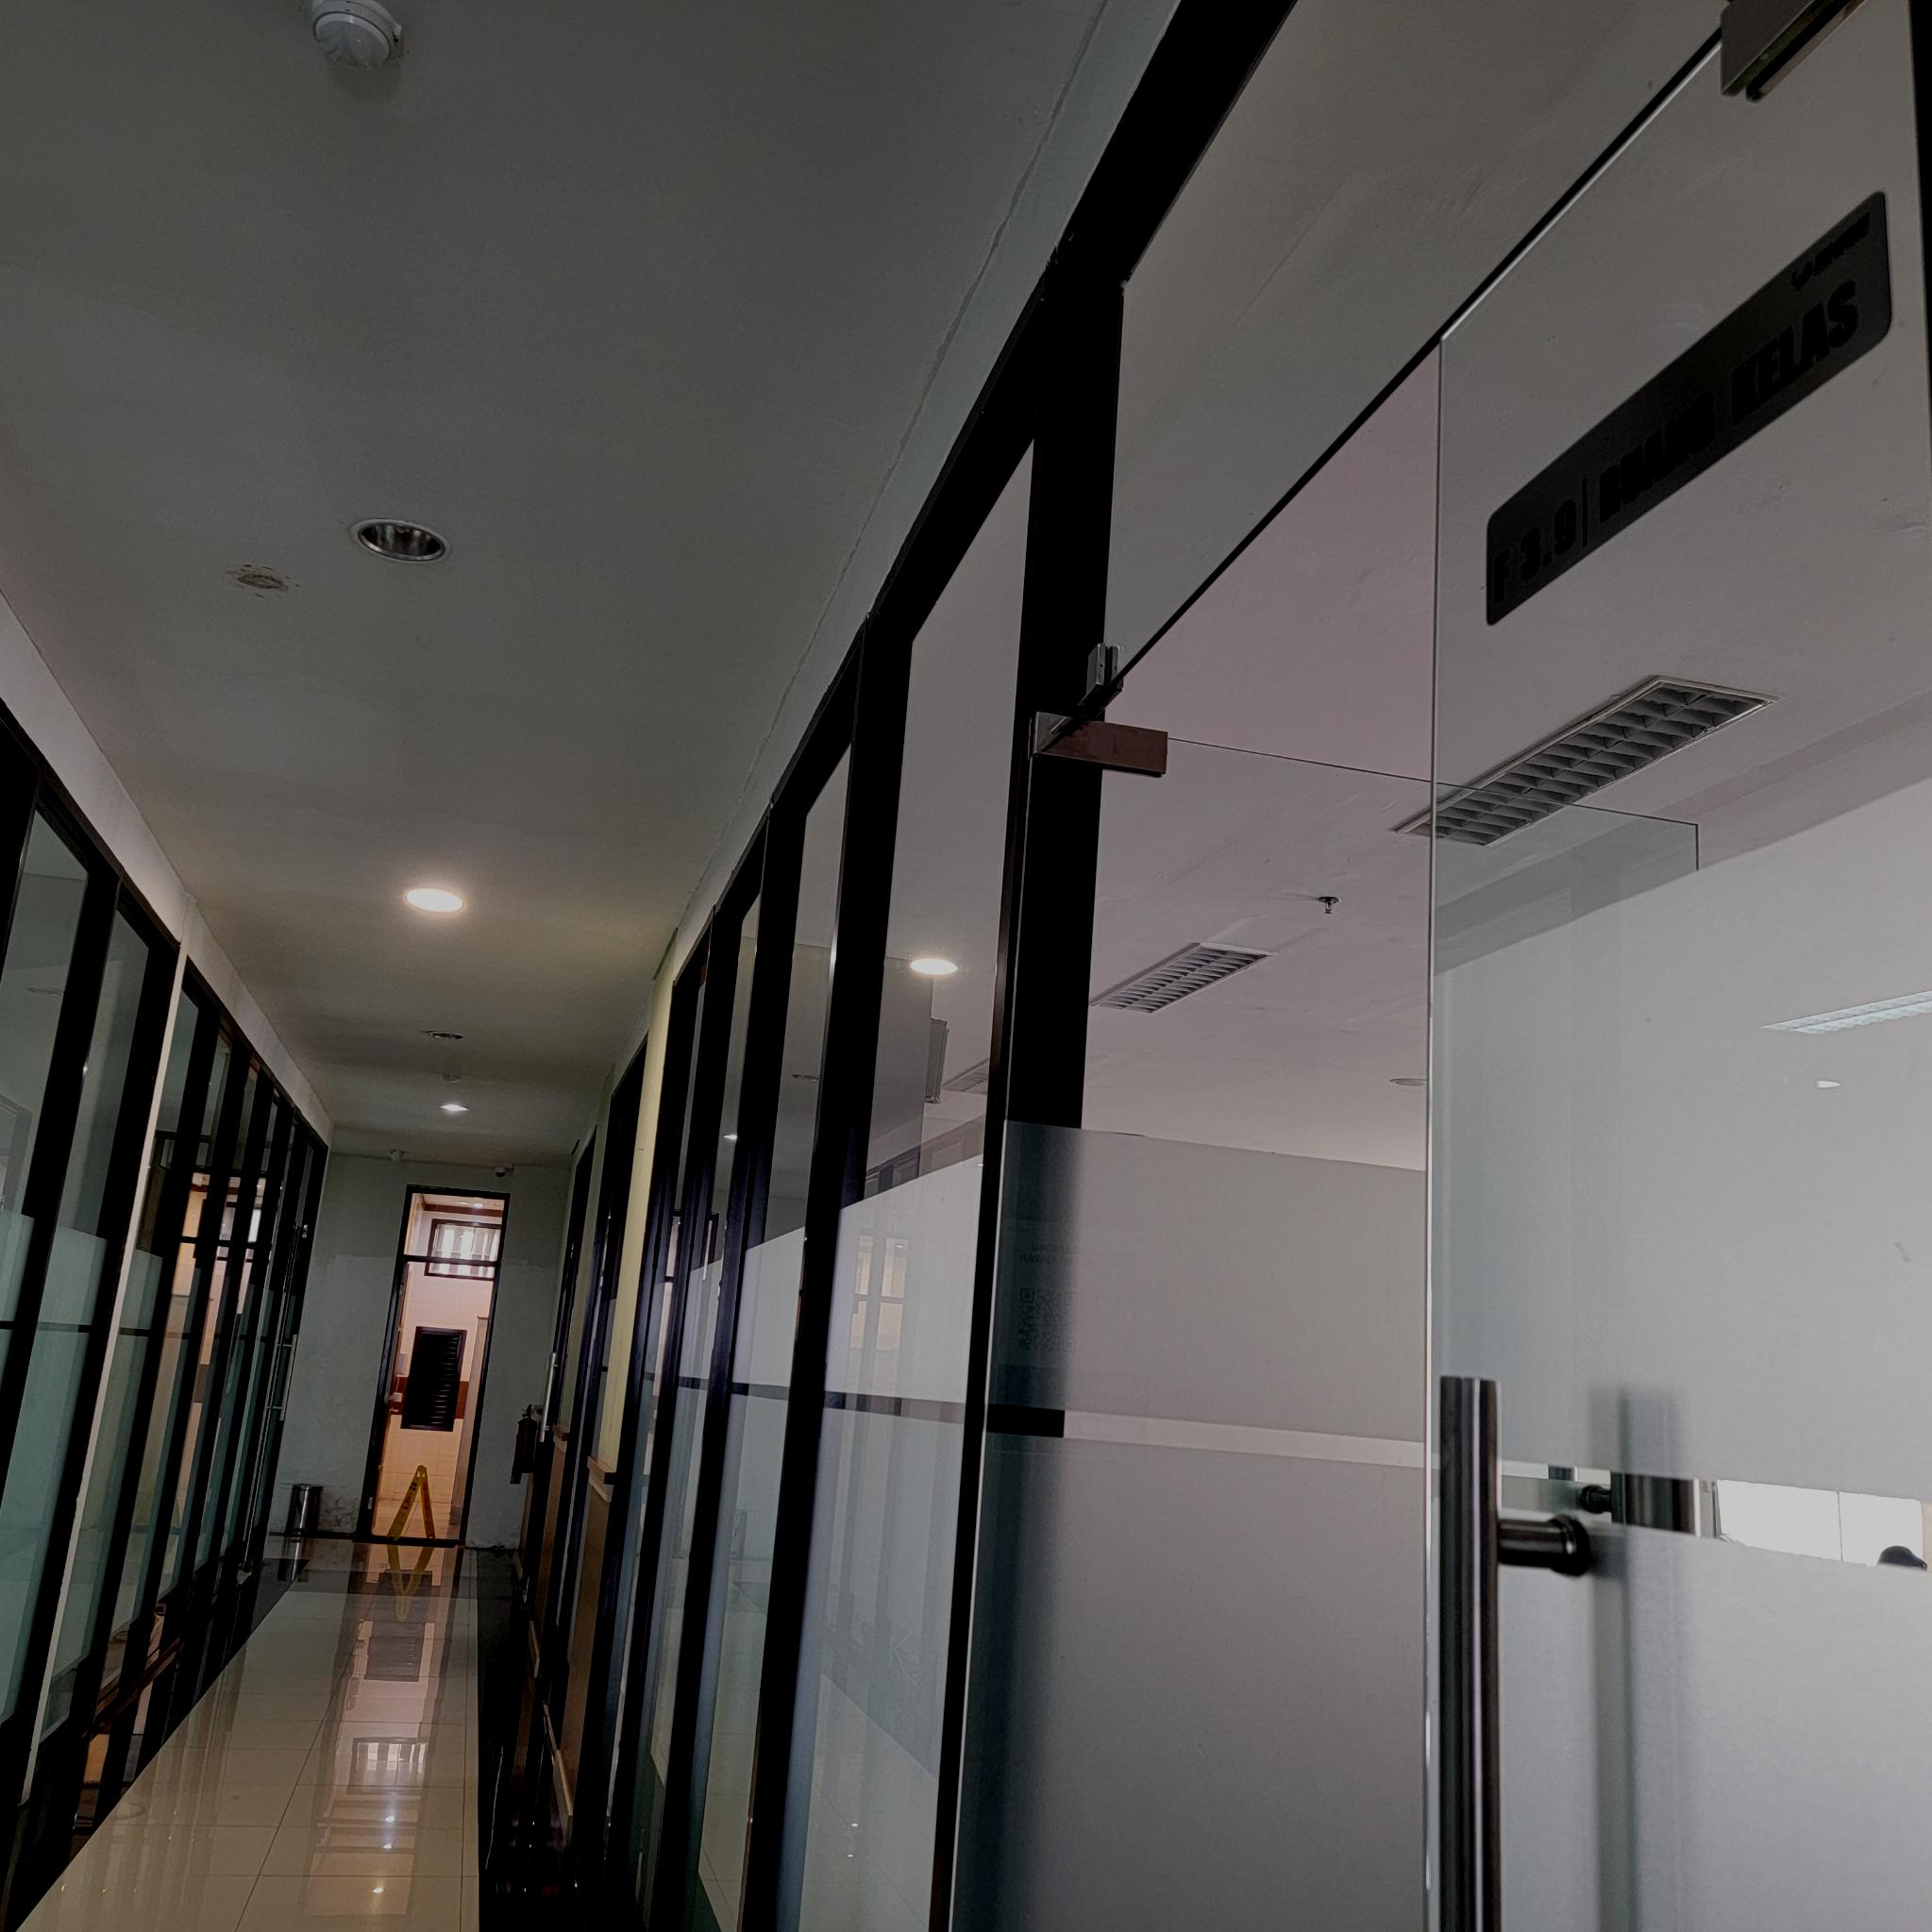plate: (1488, 191, 1891, 628)
